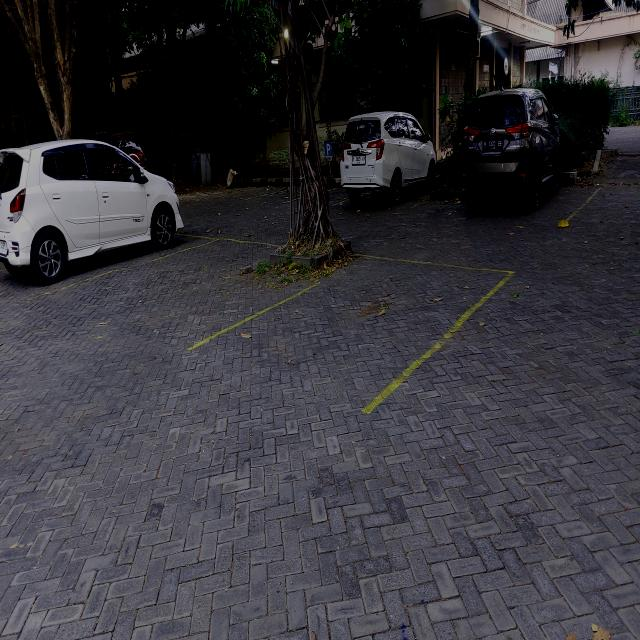empty: (191, 256, 512, 410), (53, 240, 374, 347)
occupied: (0, 138, 219, 300), (450, 89, 601, 221), (332, 110, 445, 208)
